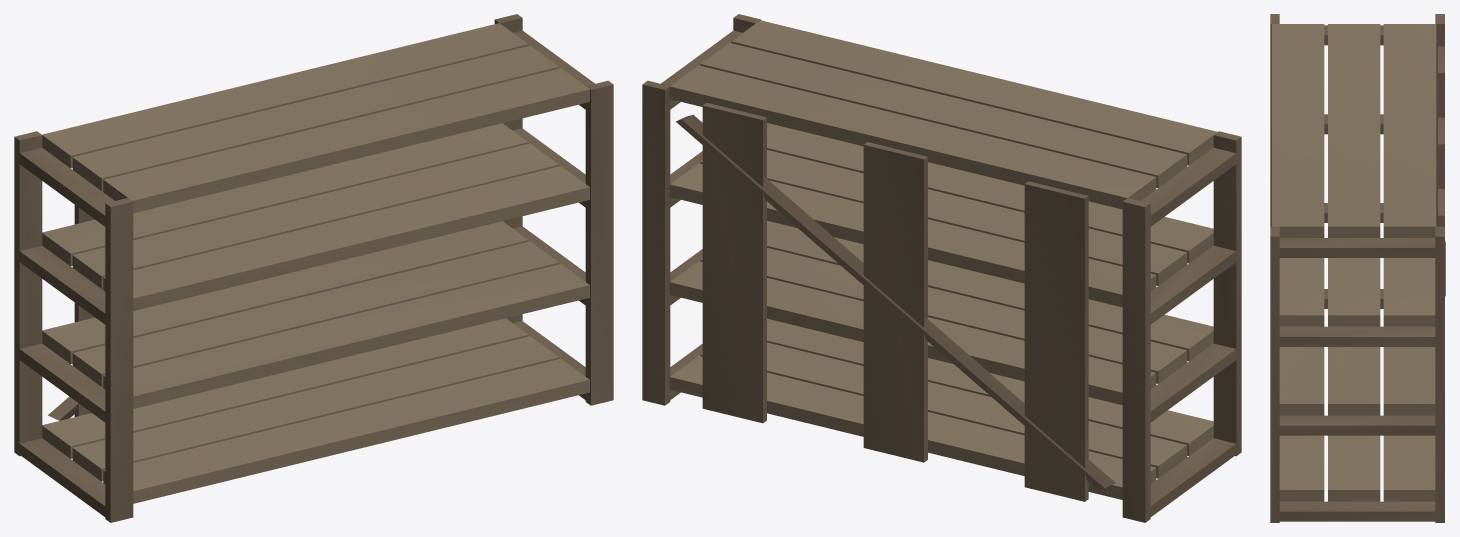
Rendered from shelf.glb.
The picture shows the model from 3 angles, left to right: view 1: azimuth 30°, elevation 25°; view 2: azimuth 150°, elevation 25°; view 3: azimuth 270°, elevation 25°; orthographic projection. The views are drawn at different scales.
Visible parts, largest first — view 1: shelf; view 2: shelf; view 3: shelf.
Boxes of the visible parts, <box> form: shelf: <box>14,14,613,522</box>; shelf: <box>642,14,1241,522</box>; shelf: <box>1270,14,1445,522</box>.
Bounding box in the file's own units: 3 × 1.8 × 1.
